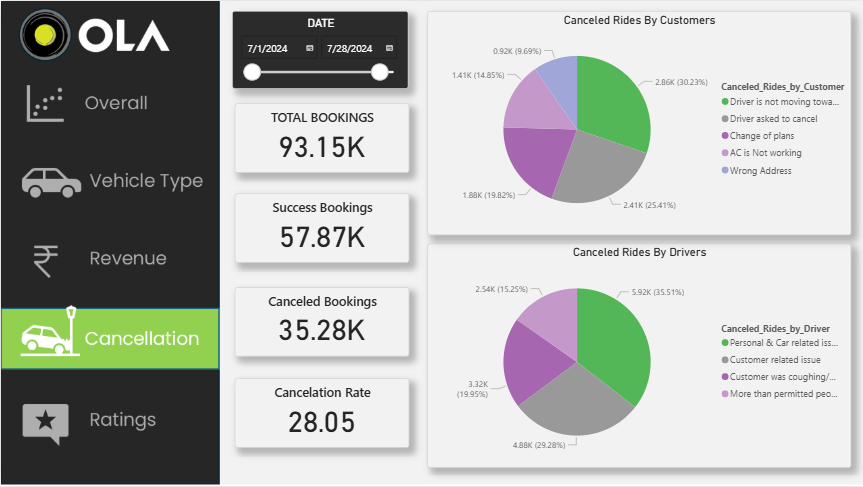

The page's visual inventory and layout, read from the dashboard file:
{"tool":"powerbi","page":{"name":"Cancellation","canvas":[1280,720],"ordinal":3},"visuals":[{"type":"actionButton","box":[0,223.6,325,90.3],"z":0},{"type":"actionButton","box":[0,336.1,325,90.3],"z":1000},{"type":"actionButton","box":[0,576.4,325,101.4],"z":2000},{"type":"actionButton","box":[0,105.6,325,91.7],"z":3000},{"type":"pieChart","title":"Canceled Rides By Customers","fields":{"Category":["July.Canceled_Rides_by_Customer"],"Y":["CountNonNull(July.Canceled_Rides_by_Customer)"]},"box":[630.6,13.9,627.8,331.9],"z":3001},{"type":"pieChart","title":"Canceled Rides By Drivers","fields":{"Category":["July.Canceled_Rides_by_Driver"],"Y":["CountNonNull(July.Canceled_Rides_by_Driver)"]},"box":[630.6,359.7,627.8,331.9],"z":3002},{"type":"slicer","title":"DATE","fields":{"Values":["July.Date"]},"box":[343.1,13.9,261.1,115.3],"z":3003},{"type":"card","title":"TOTAL BOOKINGS","fields":{"Values":["Count(July.Booking_ID)"]},"box":[345.8,151.4,258.3,102.8],"z":3004},{"type":"card","title":"Success Bookings","fields":{"Values":["Count(July.Booking_ID)"]},"box":[345.8,284.7,258.3,102.8],"z":3005},{"type":"card","title":"Canceled Bookings","fields":{"Values":["Count(July.Booking_ID)"]},"box":[345.8,423.6,258.3,102.8],"z":3006},{"type":"card","title":"Cancelation Rate","fields":{"Values":["July.CancelationRate"]},"box":[345.8,558.3,258.3,102.8],"z":3007}]}

Visuals, with their boxes in screenshot pixels (x1, y1, x2, y2), scaled from the page's 1280x720 canvas onto the 863x487 screenshot:
actionButton: 0/151/219/212
actionButton: 0/227/219/288
actionButton: 0/390/219/458
actionButton: 0/71/219/133
"Canceled Rides By Customers" pieChart: 425/9/848/234
"Canceled Rides By Drivers" pieChart: 425/243/848/468
"DATE" slicer: 231/9/407/87
"TOTAL BOOKINGS" card: 233/102/407/172
"Success Bookings" card: 233/193/407/262
"Canceled Bookings" card: 233/287/407/356
"Cancelation Rate" card: 233/378/407/447
